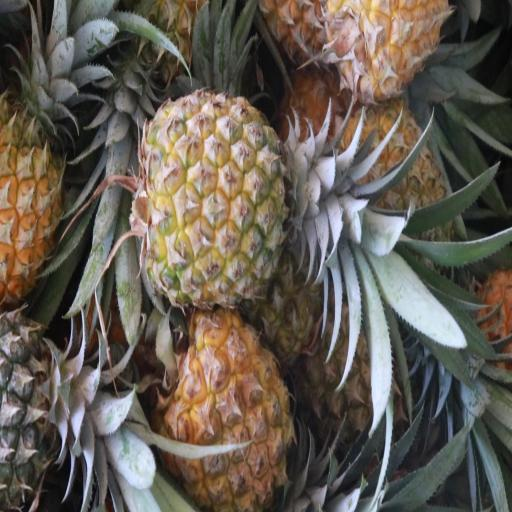------------------------------: (342, 105, 452, 269)
Pineapple - v8 v1: (144, 93, 290, 304), (162, 304, 291, 506), (0, 100, 67, 297), (327, 0, 444, 99)
